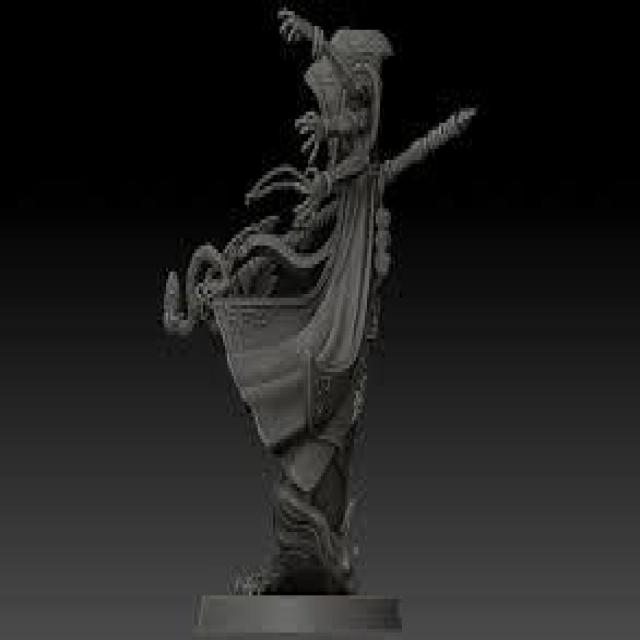Without deffect: (141, 0, 511, 640)
